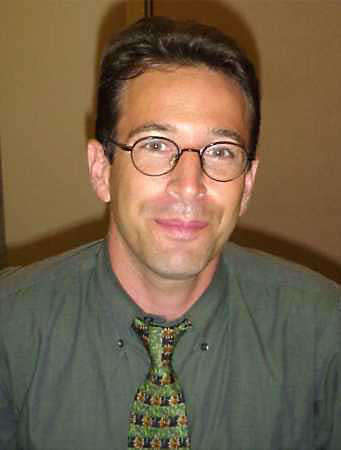Face: (106, 105, 254, 281)
